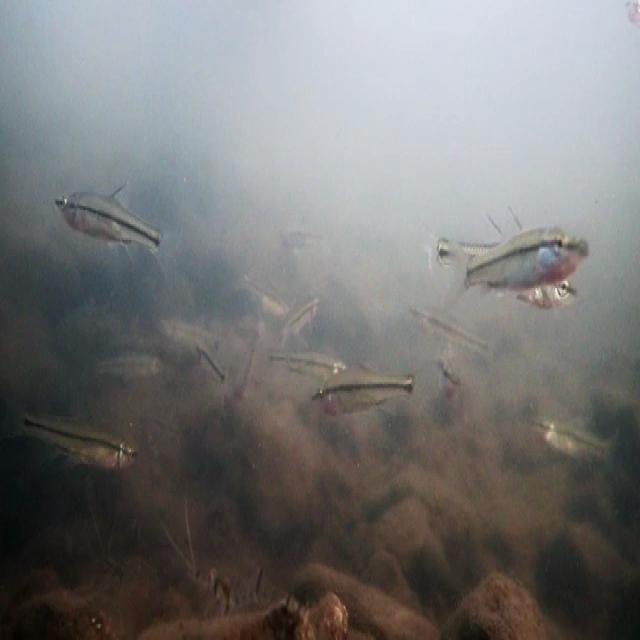Cakil Baligi: (448, 210, 596, 294), (7, 384, 141, 473), (53, 178, 169, 256), (312, 360, 448, 425)
